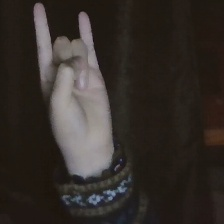U: (29, 1, 127, 143)
